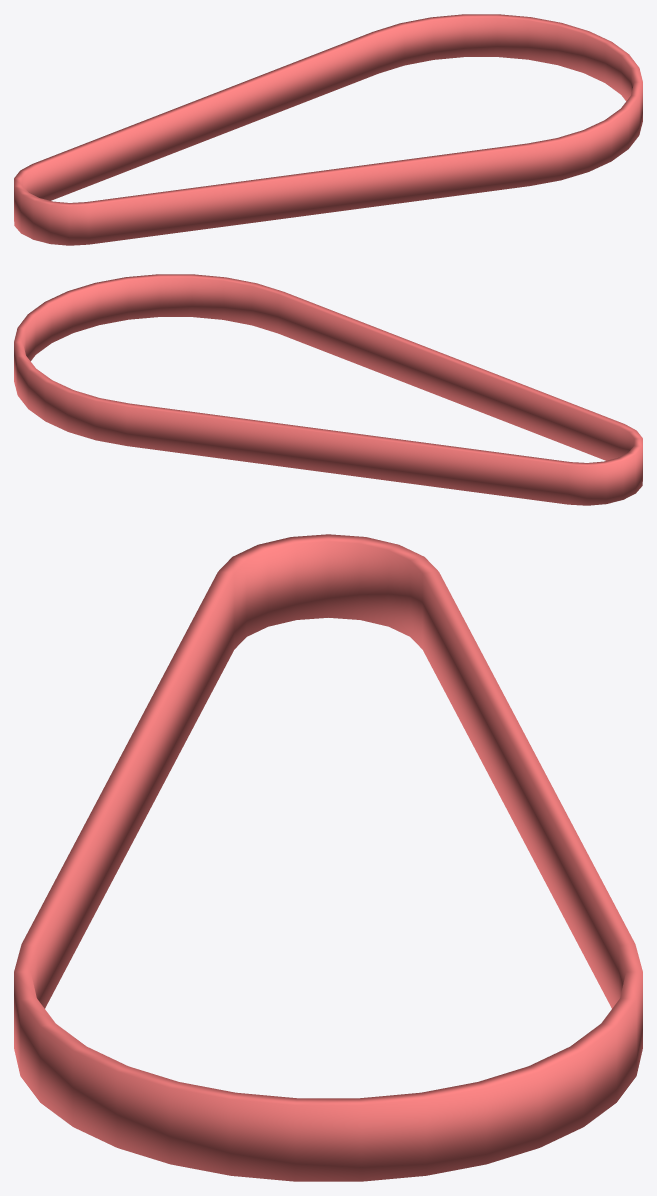
File: solo12_hip_fe_fr_2.obj
3 views of the same model, one above another, from view 1: azimuth 30°, elevation 25°; view 2: azimuth 150°, elevation 25°; view 3: azimuth 270°, elevation 25° (orthographic). The views are drawn at different scales.
Bounding box in the file's own units: 0.0641 × 0.004 × 0.0298.
